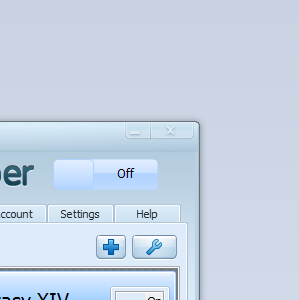close: (150, 120, 195, 140)
